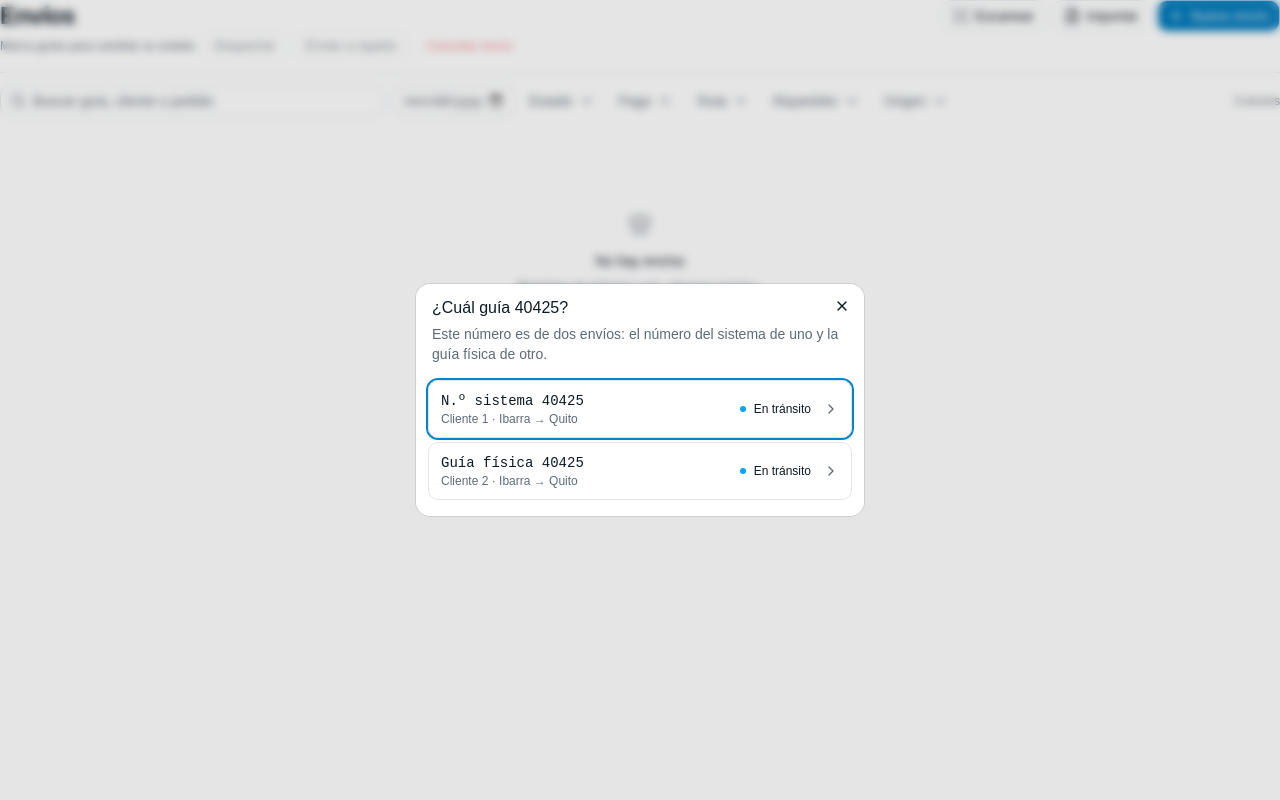
Scenario: EnviosPage › con ?guia= que es número del sistema de uno y guía física de otro, pide elegir (contrato v21)
Expected: the button "N.º sistema 40425 Cliente 1 · Ibarra → Quito En tránsito" is shown, x1=428 y1=380 x2=852 y2=438
Click the button "Guía física 40425 Cliente 2 · Ibarra → Quito En tránsito" at [512, 463], box x1=428 y1=442 x2=852 y2=500
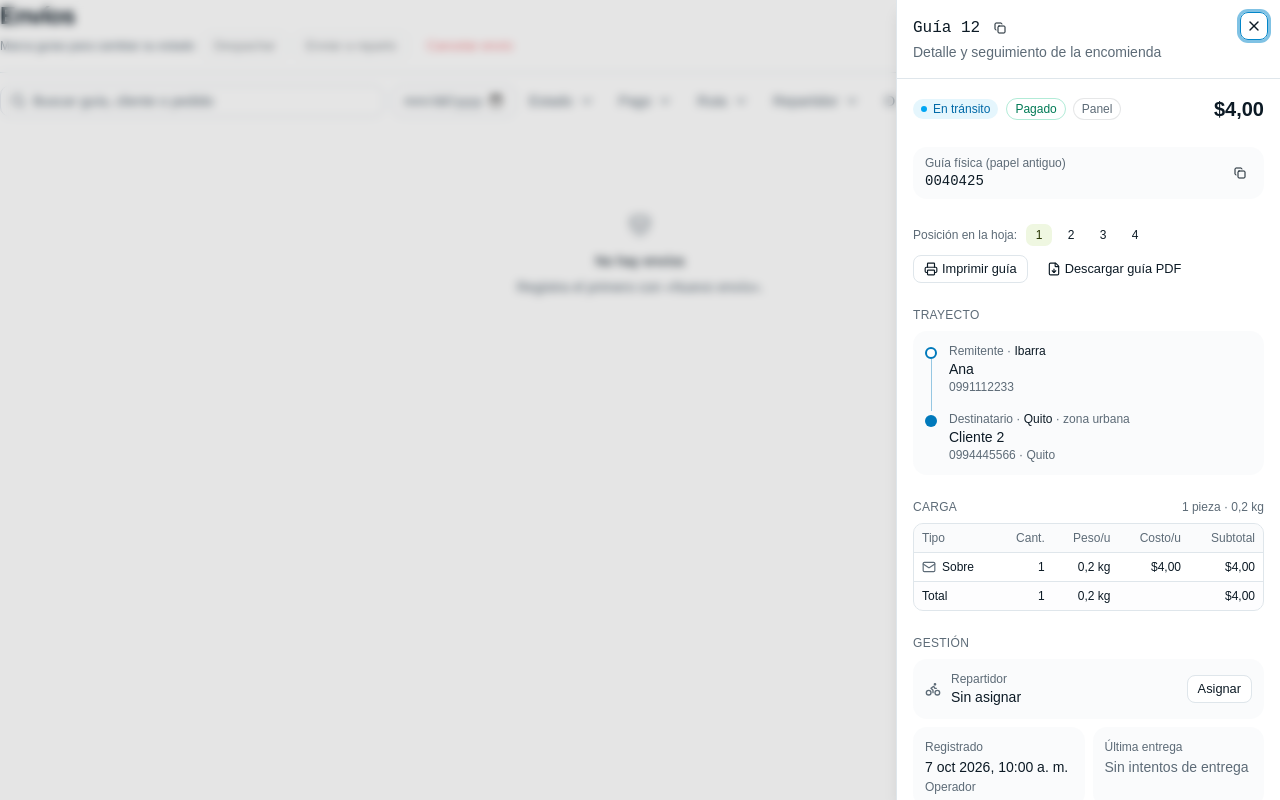
Expected: the heading "Guía 12" is shown, x1=913 y1=16 x2=1012 y2=40
Expected: the element with test id "guia-fisica" shows "0040425", x1=925 y1=173 x2=984 y2=189
